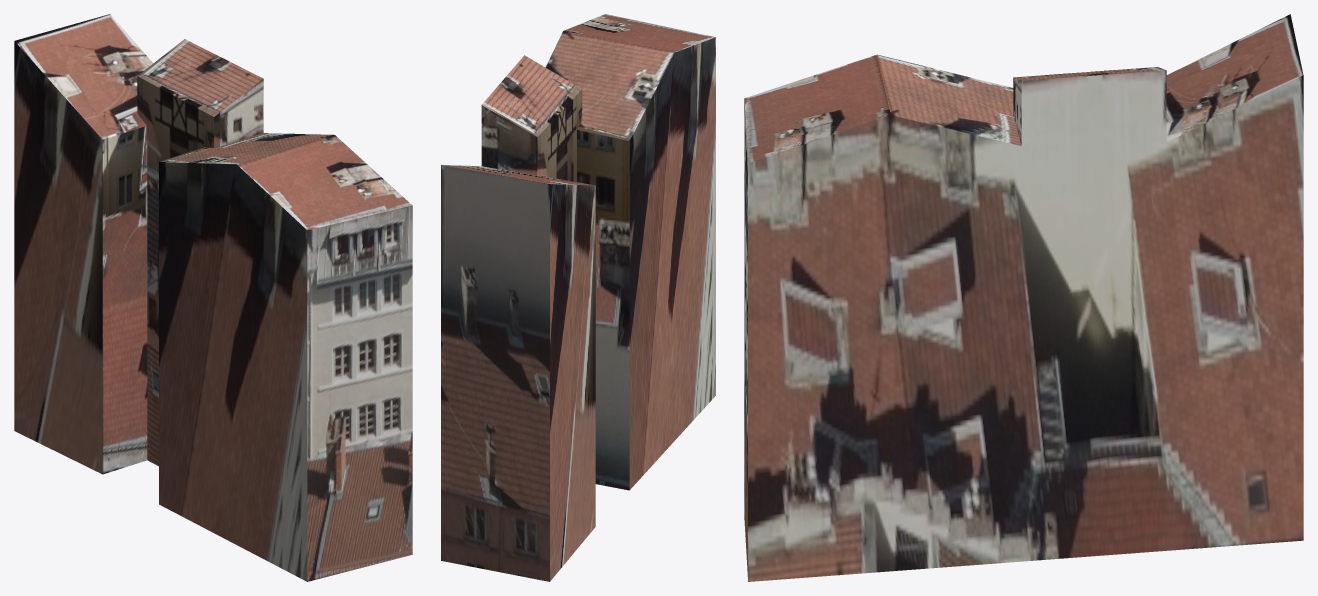
The picture shows the model from 3 angles, left to right: view 1: azimuth 30°, elevation 25°; view 2: azimuth 150°, elevation 25°; view 3: azimuth 270°, elevation 25°; orthographic projection. The views are drawn at different scales.
Visible parts, largest first — view 1: Z_UP; view 2: Z_UP; view 3: Z_UP.
Boxes of the visible parts, x1,y1,x2,y2 form: Z_UP: (14, 14, 412, 581); Z_UP: (441, 14, 715, 581); Z_UP: (744, 14, 1303, 581).
Size of the model in its own units: 11.79 by 26.3 by 27.73.
2 materials, 1 textured.
